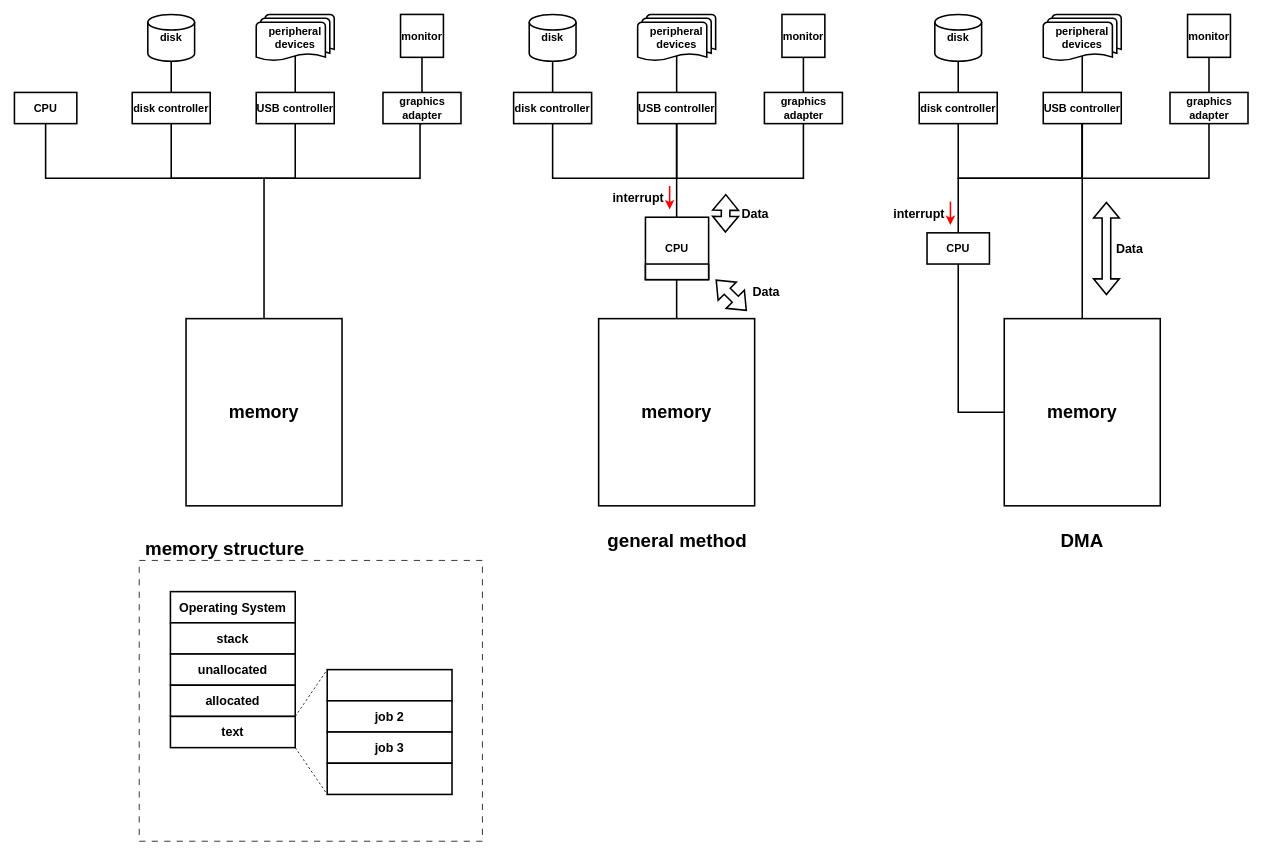
Image size: 1262x855. Some labels were removed from this diagram. The box of each missing label's shape, as (x1, y1, x2, y2) in pixels:
cache: (644, 263, 709, 280)
job 1: (326, 668, 452, 701)
job 4: (326, 762, 452, 795)
